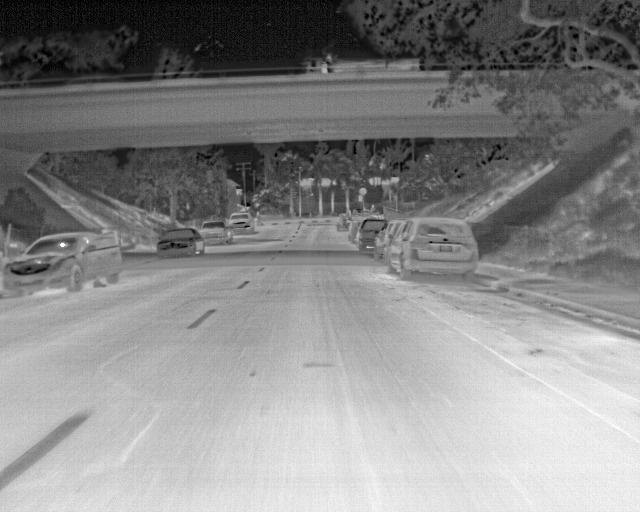car: (2, 230, 123, 294), (388, 216, 477, 283), (157, 226, 204, 256), (370, 219, 401, 261), (355, 218, 385, 251), (200, 218, 232, 245), (226, 211, 253, 233), (346, 217, 364, 242), (335, 210, 350, 231)
